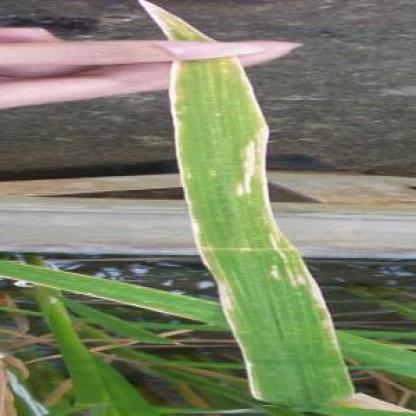Blight: (238, 129, 416, 416)
